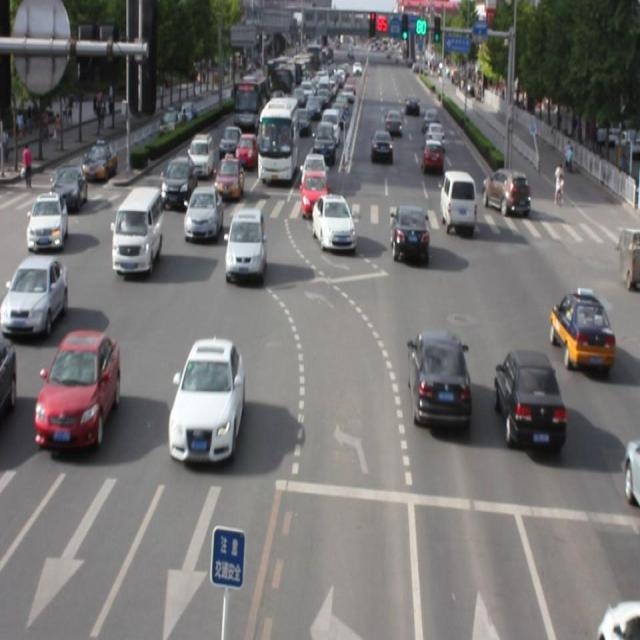car: (34, 329, 120, 451), (168, 336, 242, 462), (493, 347, 564, 451), (408, 330, 468, 427), (550, 290, 612, 366), (225, 207, 265, 280), (312, 193, 355, 250), (390, 206, 429, 264), (185, 185, 222, 242)
truck: (112, 187, 162, 273), (439, 170, 476, 233)
